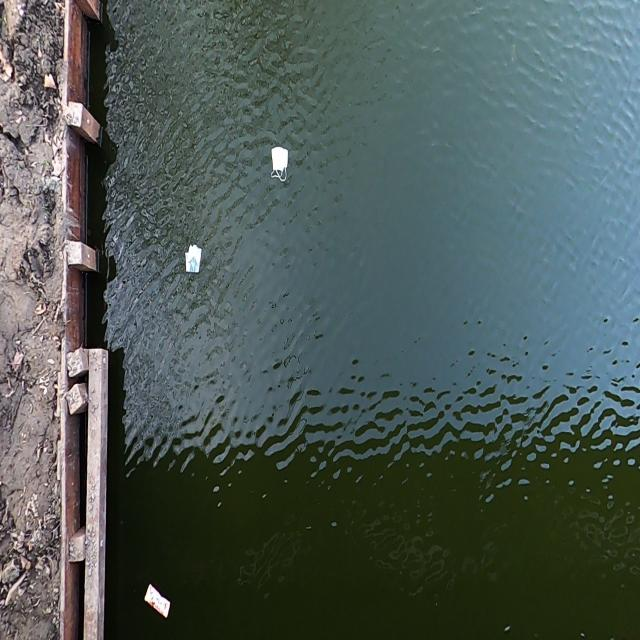Autre plastique: (140, 579, 172, 622)
Non plastique: (264, 140, 294, 191)
